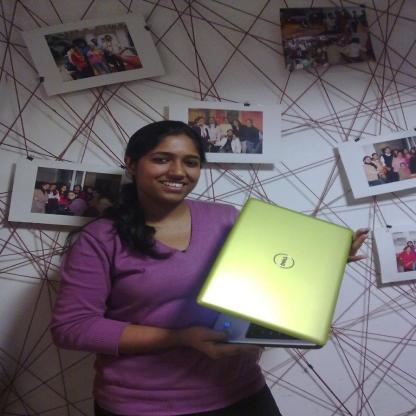board: (188, 194, 364, 360)
